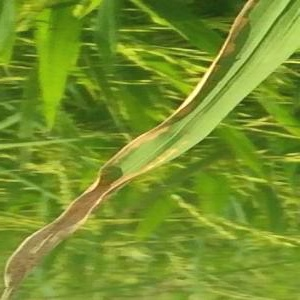Leaf_Blast: (104, 128, 192, 182)
